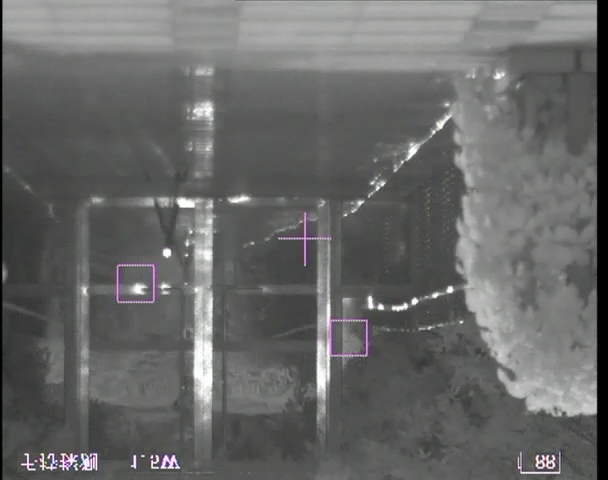my: (162, 246, 173, 258)
